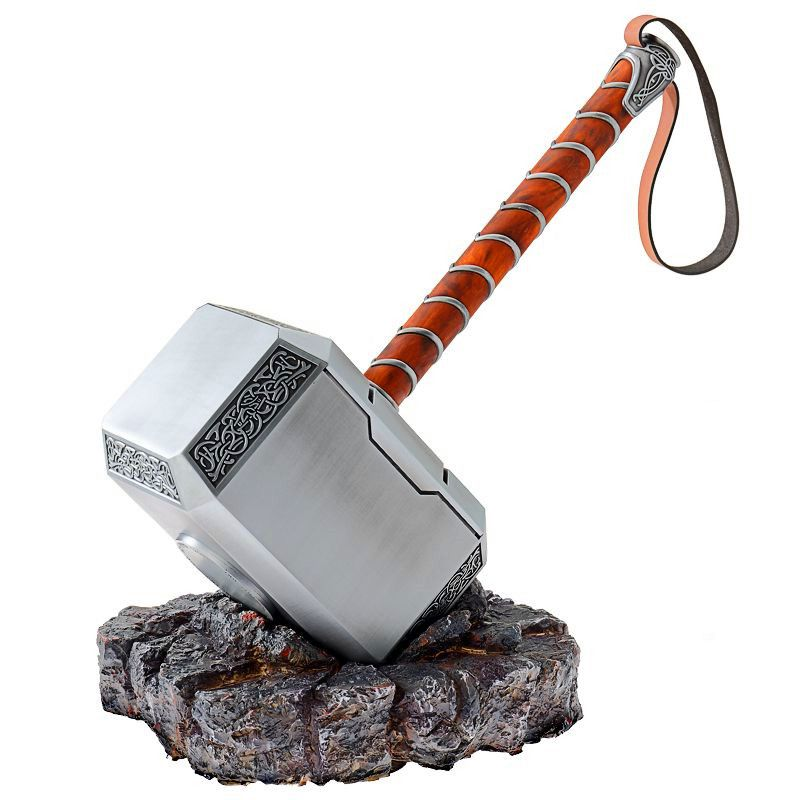THOR Hammer: (73, 4, 716, 633)
